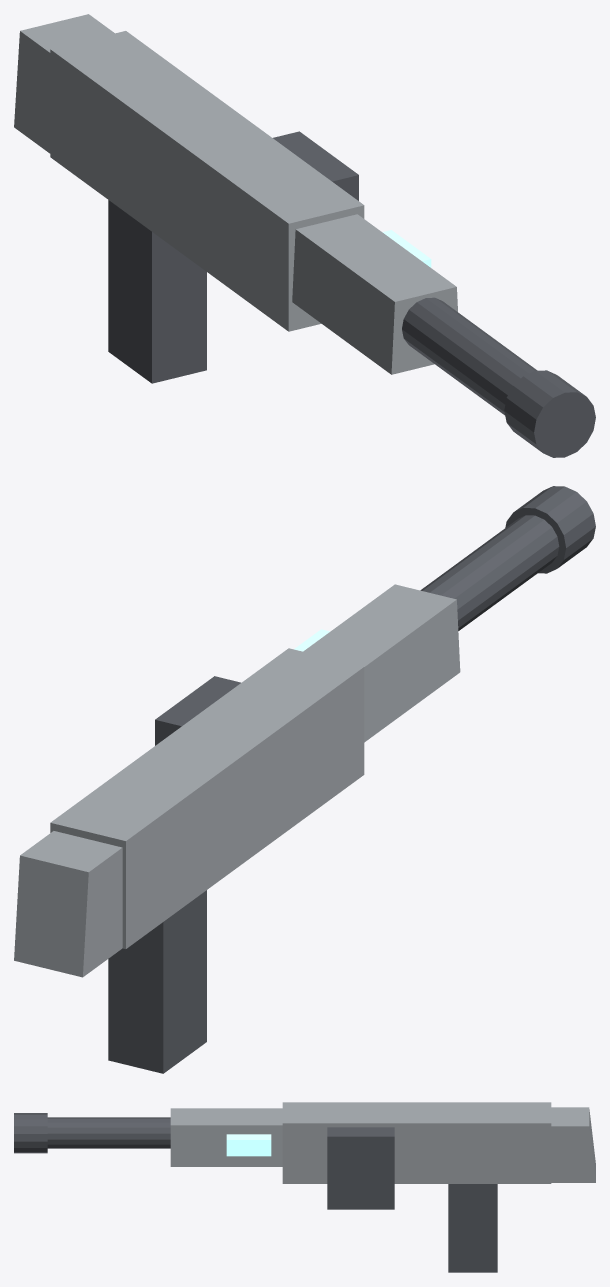
Rendered from weapon_left_rifle.fbx.
3 views of the same model, one above another, from view 1: azimuth 30°, elevation 25°; view 2: azimuth 150°, elevation 25°; view 3: azimuth 270°, elevation 25° (orthographic). The views are drawn at different scales.
Parts seen in each view (by area): view 1: weapon_left_rifle; view 2: weapon_left_rifle; view 3: weapon_left_rifle.
Boxes of the visible parts, left/top/right/bottom form: weapon_left_rifle: left=14, top=14, right=595, bottom=457; weapon_left_rifle: left=14, top=486, right=595, bottom=1073; weapon_left_rifle: left=14, top=1102, right=595, bottom=1272.
Size of the model in its own units: 0.32 by 0.75 by 2.6.
